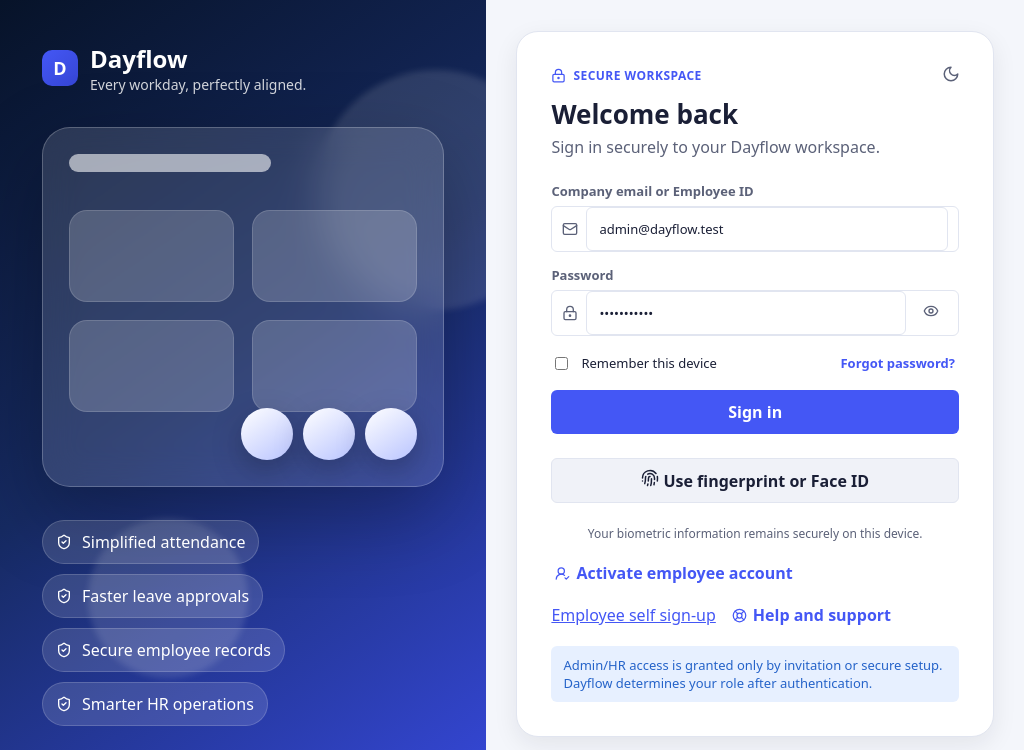
Test: LoginPage › shows the server error message on failed login
Click the button "Sign in": (755, 412) left=551, top=390, right=959, bottom=434
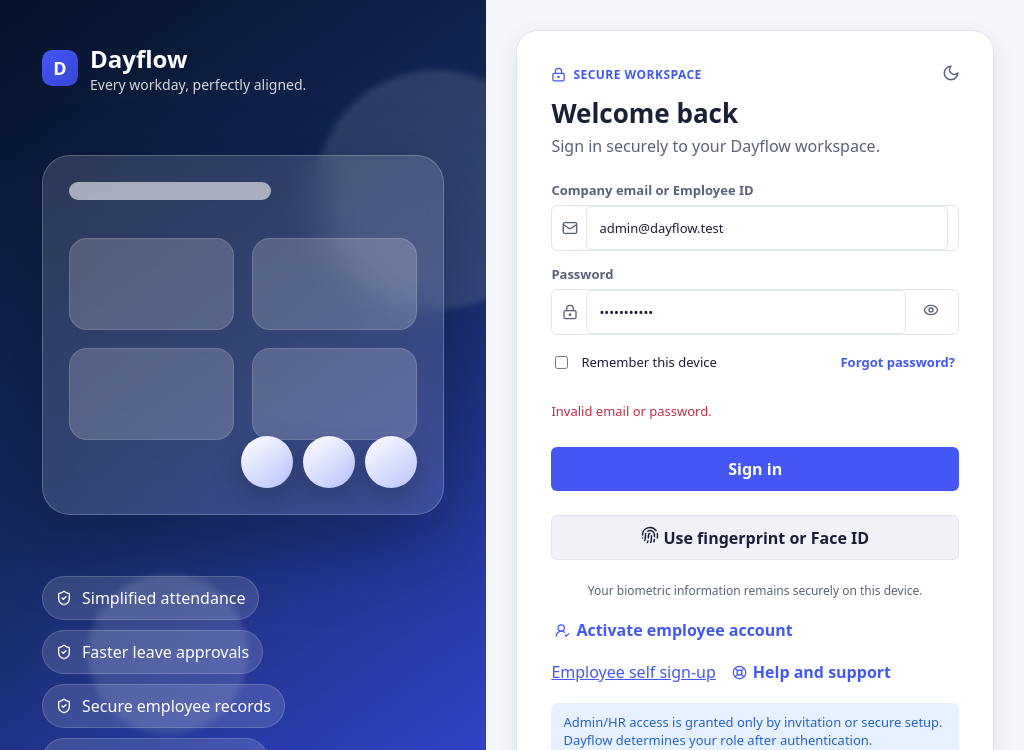
Result: the text "Invalid email or password." is shown at left=551, top=402, right=712, bottom=420
